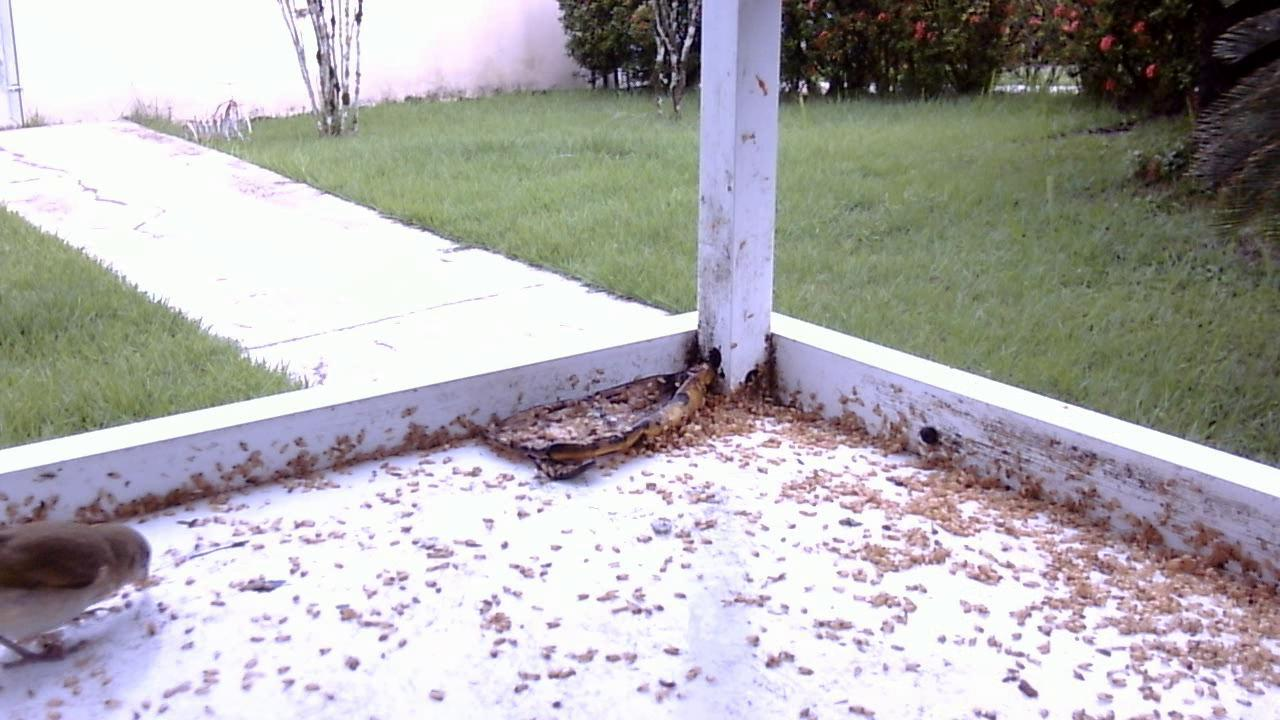canario_do_amazonas: (1, 512, 170, 671)
